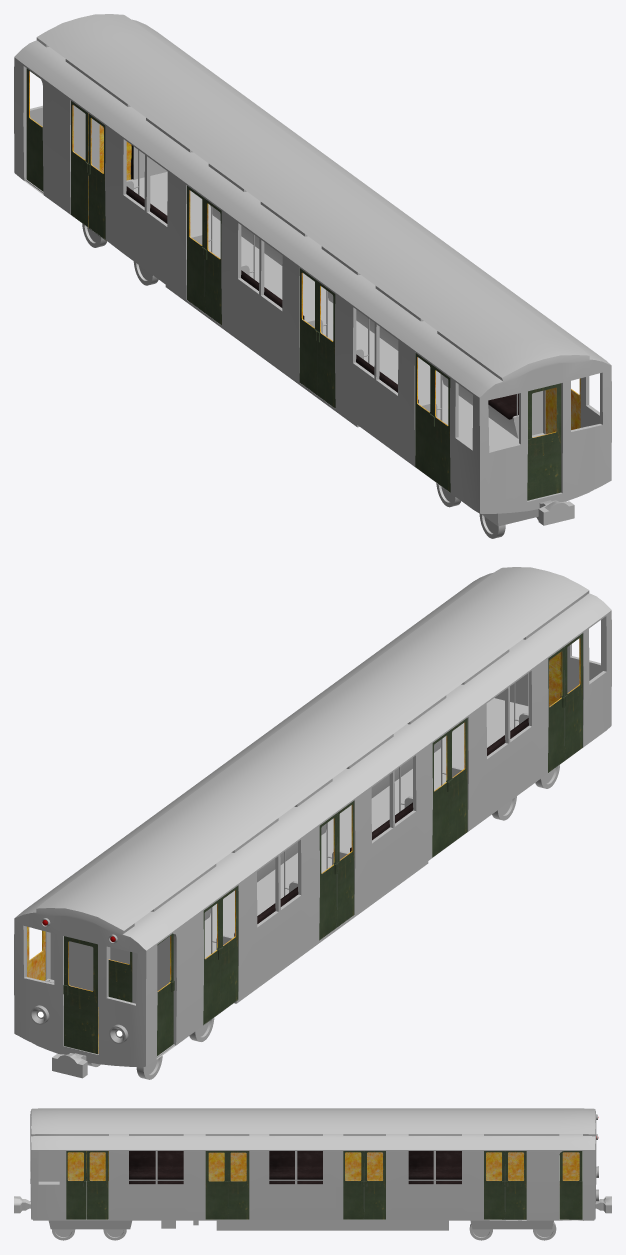
Rendered from MetrowagonAlike.gltf.
3 renders of one model, top to bottom at view 1: azimuth 30°, elevation 25°; view 2: azimuth 150°, elevation 25°; view 3: azimuth 270°, elevation 25°, orthographic. The views are drawn at different scales.
Parts seen in each view (by area): view 1: MetrowagonA_wagon, Cube.001, Door.016, Door.012, Door.013, Door.014, Door.011, Door.008, Cube, Door.015, Door.009, Door.010 (+3 smaller); view 2: MetrowagonA_wagon, Cube.001, Door.017, Cube, Door.009, Door.013, Door.014, Door.010, Door.011, Door.012, Door.008, Door.015 (+3 smaller); view 3: MetrowagonA_wagon, Bogey.003, Seat.005, Seat, Seat.003, Door.019, Door, Door.001, Door.002, Door.005, Door.006, Door.003 (+23 smaller).
Part boxes in pixels (x1,y1,x2,y2): MetrowagonA_wagon: (14, 14, 611, 513); Cube.001: (25, 172, 544, 450); Door.016: (527, 383, 561, 500); Door.012: (299, 268, 317, 394); Door.013: (316, 281, 335, 408); Door.014: (431, 365, 450, 492); Door.011: (187, 186, 204, 312); Door.008: (71, 101, 88, 227); Cube: (73, 105, 167, 179); Door.015: (415, 353, 432, 479); Door.009: (87, 113, 106, 240); Door.010: (204, 199, 221, 325); MetrowagonA_wagon: (14, 567, 611, 1066); Cube.001: (15, 698, 528, 1057); Door.017: (63, 936, 98, 1054); Cube: (50, 933, 169, 1003); Door.009: (220, 885, 238, 1012); Door.013: (449, 718, 467, 844); Door.014: (565, 633, 582, 760); Door.010: (337, 801, 354, 927); Door.011: (319, 813, 337, 940); Door.012: (432, 731, 450, 857); Door.008: (203, 899, 221, 1025); Door.015: (548, 646, 565, 772); MetrowagonA_wagon: (30, 1108, 596, 1220); Bogey.003: (216, 1220, 448, 1230); Seat.005: (129, 1151, 183, 1179); Seat: (269, 1151, 322, 1179); Seat.003: (408, 1151, 461, 1179); Door.019: (559, 1151, 582, 1219); Door: (205, 1151, 227, 1219); Door.001: (227, 1151, 249, 1219); Door.002: (87, 1151, 108, 1219); Door.005: (364, 1151, 385, 1219); Door.006: (505, 1151, 526, 1219); Door.003: (66, 1151, 86, 1219).
Size of the model in its own units: 3.88 by 5.29 by 24.71.
